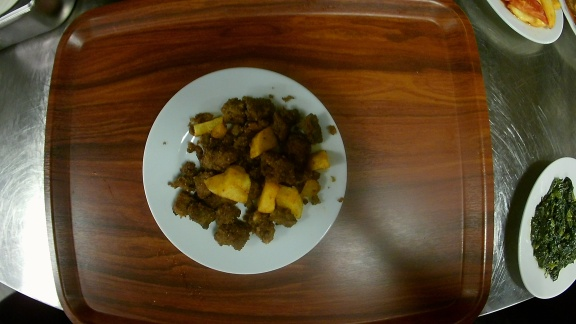arnavutcigeri: (141, 66, 349, 276)
